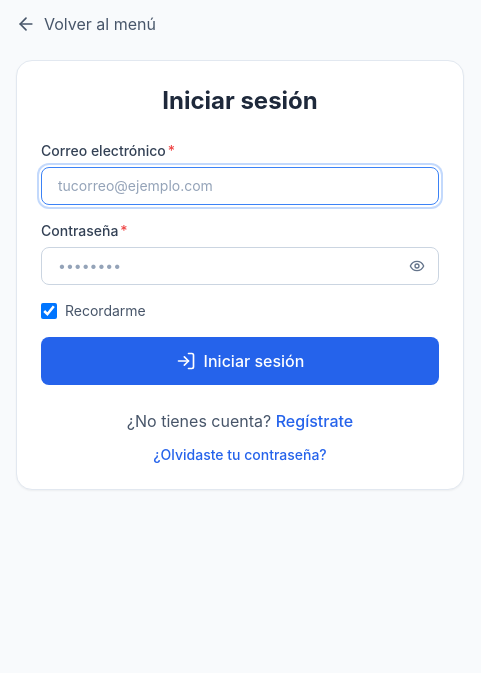
Scenario: Login › valida los campos obligatorios antes de enviar
Click the button "Iniciar sesión" at (240, 361), box [41,337,439,385]
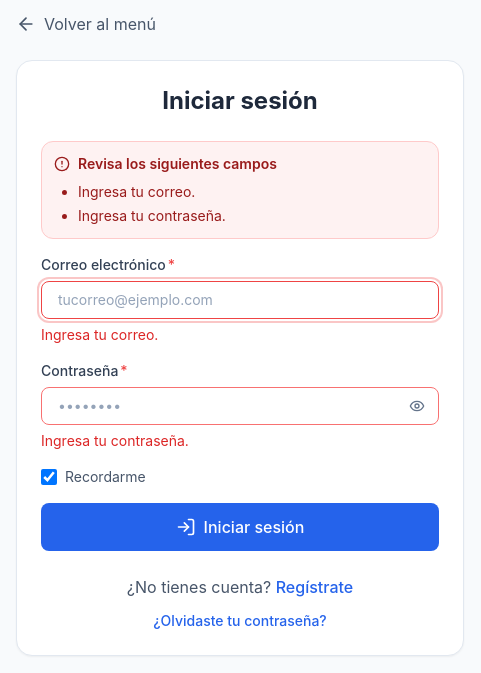
Check: the list item "Ingresa tu correo." is shown, box [78,183,195,200]
Check: the list item "Ingresa tu contraseña." is shown, box [78,207,226,224]
Check: the text "Revisa los siguientes campos" is shown, box [54,155,277,172]
